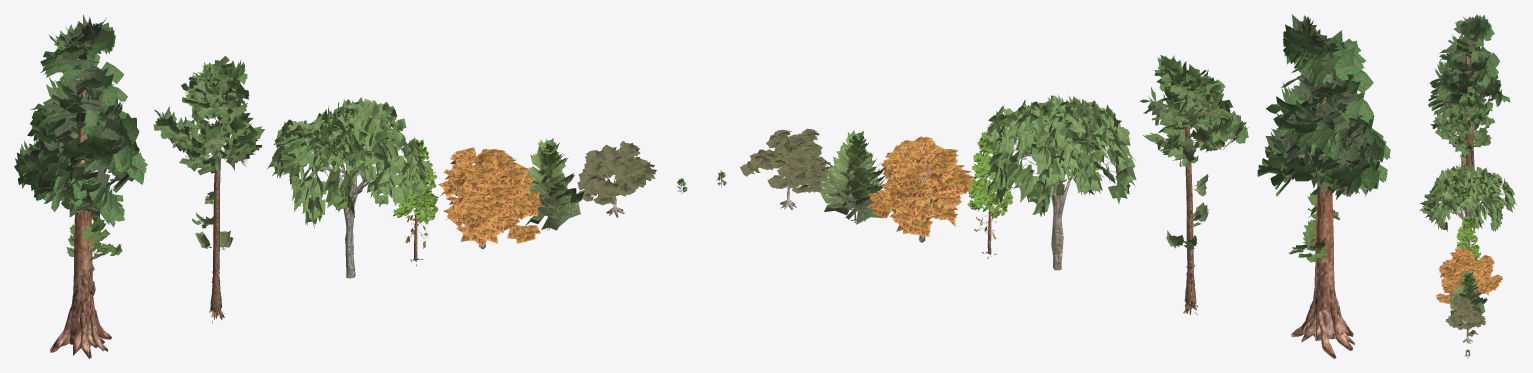
Rendered from trees.glb.
3 renders of one model, left to right at view 1: azimuth 30°, elevation 25°; view 2: azimuth 150°, elevation 25°; view 3: azimuth 270°, elevation 25°, orthographic. The views are drawn at different scales.
Visible parts, largest first — view 1: trees; view 2: trees; view 3: trees.
Boxes of the visible parts, x1,y1,x2,y2 form: trees: (14, 14, 687, 358); trees: (716, 14, 1390, 358); trees: (1419, 14, 1517, 358).
Bounding box in the file's own units: 99.61 × 47.25 × 22.65.
Materials: 8 (8 with a texture image).
